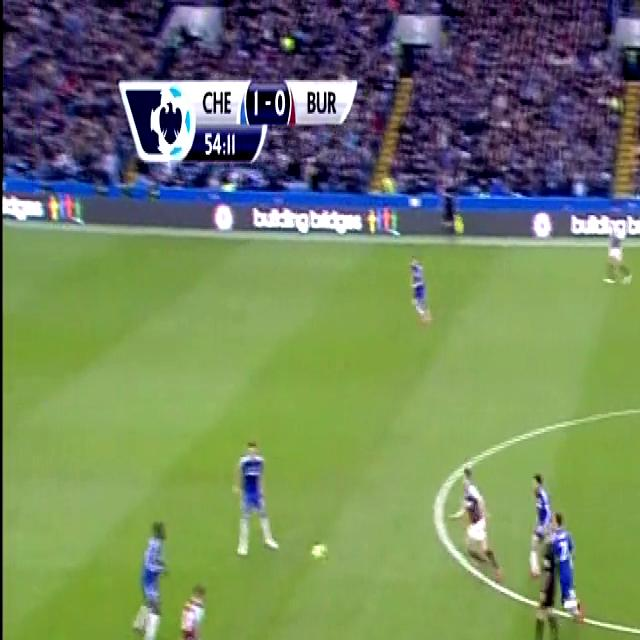ball: (310, 532, 330, 570)
referee: (530, 517, 564, 640), (439, 169, 466, 241)
soccer-player: (227, 424, 280, 560), (127, 508, 168, 640), (455, 454, 496, 582), (543, 510, 583, 640), (524, 449, 558, 590), (598, 204, 637, 294), (168, 569, 216, 640), (401, 241, 435, 329)
